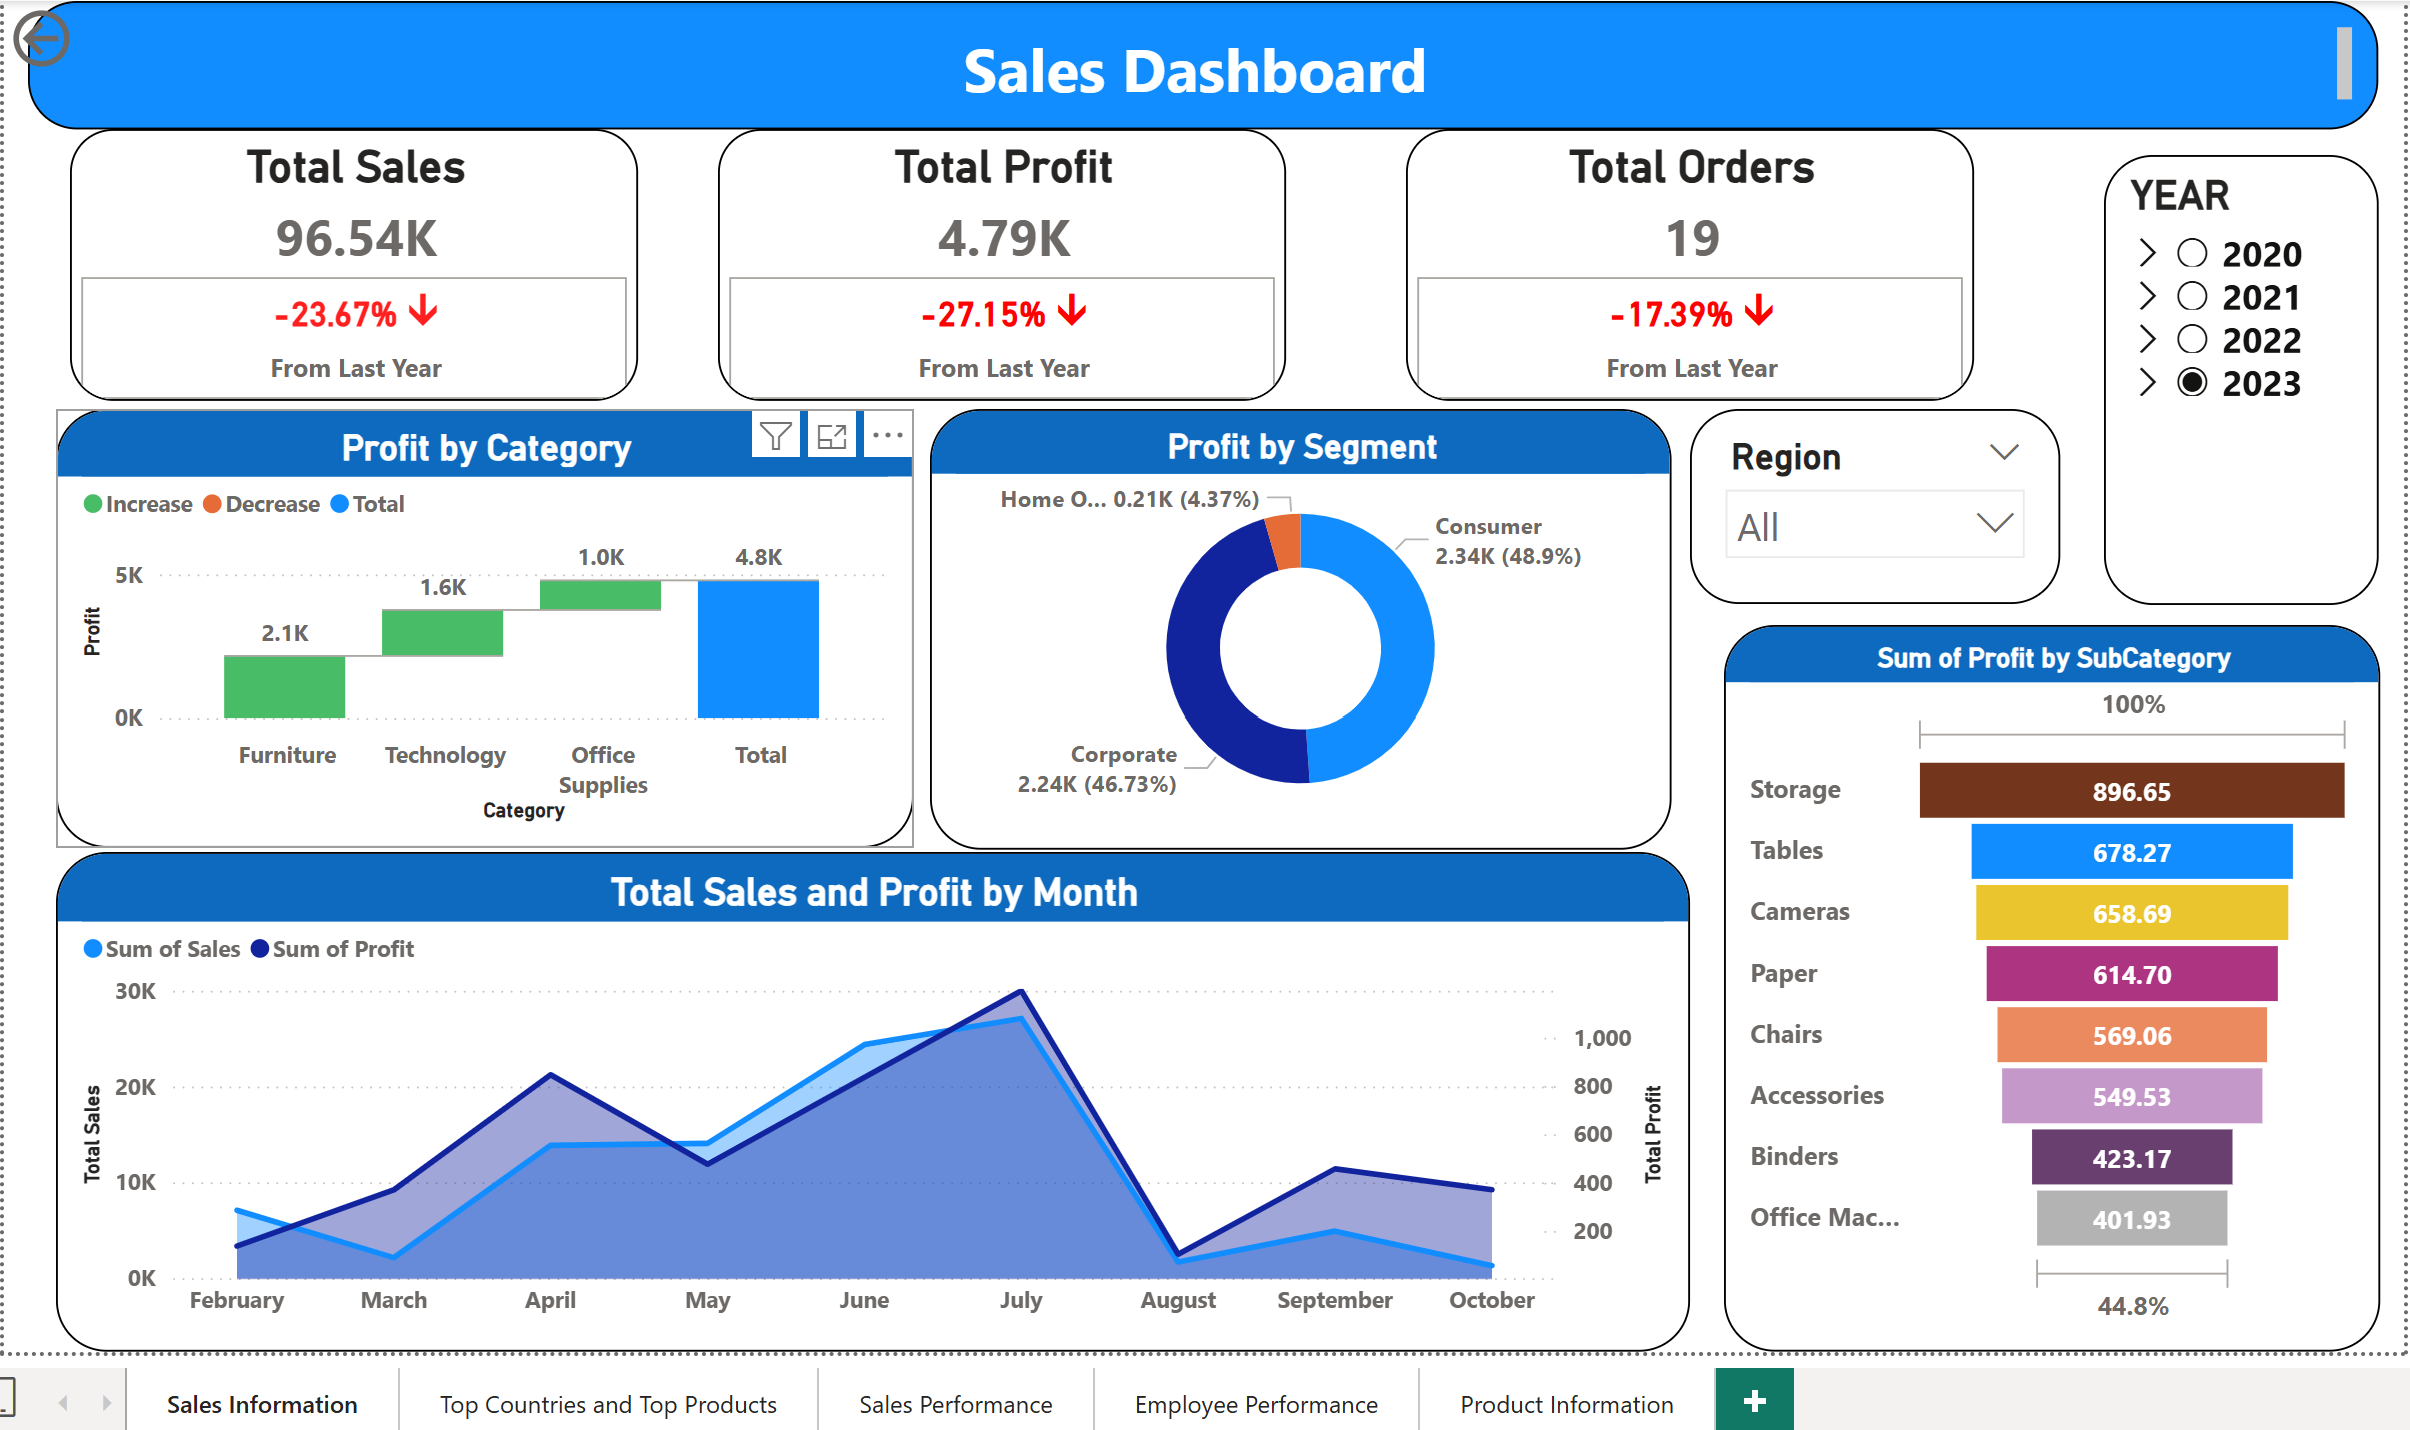

The page's visual inventory and layout, read from the dashboard file:
{"tool":"powerbi","page":{"name":"Sales Information","canvas":[1280,720],"ordinal":0},"visuals":[{"type":"cardVisual","title":"Total Sales","fields":{"Data":["calculations.kpi yoy change sales %"]},"box":[35.6,68.5,303.2,145],"z":0},{"type":"textbox","box":[13.2,0,1253.6,68.5],"z":1000},{"type":"slicer","fields":{"Values":["Sales Information.Region"]},"box":[899,217.5,197.7,104.1],"z":2000},{"type":"waterfallChart","title":"Profit by Category","fields":{"Category":["Product Information.Category"],"Y":["Sum(Sales Information.Profit)"]},"box":[27.7,217.5,457.4,233.3],"z":3000},{"type":"donutChart","title":"Profit by Segment","fields":{"Y":["Sum(Sales Information.Profit)"],"Category":["Sales Information.Segment"]},"box":[494.3,217.5,395.5,234.6],"z":4000},{"type":"funnel","fields":{"Y":["Sum(Sales Information.Profit)"],"Category":["Product Information.SubCategory"]},"box":[917,332.9,350.2,387.1],"z":5000},{"type":"tableEx","fields":{"Values":["Sales Information.Order_Date.Variation.Date Hierarchy.Year"]},"box":[36,487,366,196],"z":6000},{"type":"areaChart","title":"Total Sales and Profit by Month","fields":{"Y":["Sum(Sales Information.Sales)"],"Y2":["Sum(Sales Information.Profit)"],"Category":["Date.MONTH"]},"box":[27.7,453.5,871.3,266.3],"z":7000},{"type":"listSlicer","fields":{"Values":["Date.YEAR","Date.Date"]},"box":[1120.5,81.7,146.3,239.9],"z":8000},{"type":"cardVisual","title":"Total Profit","fields":{"Data":["calculations.kpi yoy change profit %"]},"box":[381,68.5,303.2,145],"z":9000},{"type":"cardVisual","title":"Total Orders","fields":{"Data":["calculations.kpi yoy change orders"]},"box":[747.4,68.5,303.2,145],"z":10000},{"type":"actionButton","box":[0,0,100,40],"z":11000}]}

Visuals, with their boxes in screenshot pixels (x1, y1, x2, y2):
"Total Sales" cardVisual: bbox(79, 127, 642, 396)
textbox: bbox(37, 0, 2365, 127)
slicer - Sales Information.Region: bbox(1682, 404, 2049, 597)
"Profit by Category" waterfallChart: bbox(64, 404, 913, 837)
"Profit by Segment" donutChart: bbox(930, 404, 1665, 839)
funnel - Sum(Sales Information.Profit) x Product Information.SubCategory: bbox(1715, 618, 2365, 1337)
tableEx - Sales Information.Order_Date.Variation.Date Hierarchy.Year: bbox(79, 904, 759, 1268)
"Total Sales and Profit by Month" areaChart: bbox(64, 842, 1682, 1337)
listSlicer - Date.YEAR x Date.Date: bbox(2093, 152, 2365, 597)
"Total Profit" cardVisual: bbox(720, 127, 1283, 396)
"Total Orders" cardVisual: bbox(1400, 127, 1963, 396)
actionButton: bbox(13, 0, 198, 74)
